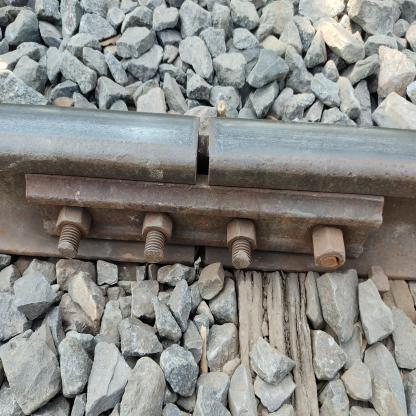Non Defective 3: (14, 169, 402, 319)
